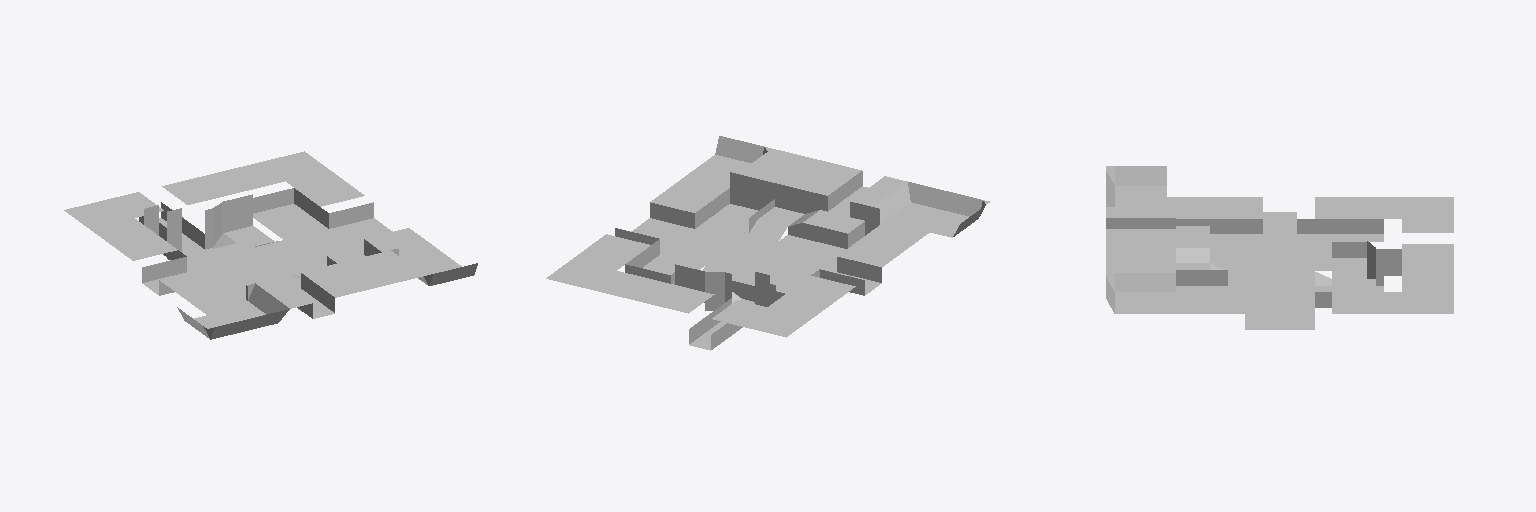
File: lvl_shipBigRoom2.obj
3 renders of one model, left to right at view 1: azimuth 30°, elevation 25°; view 2: azimuth 150°, elevation 25°; view 3: azimuth 270°, elevation 25°, orthographic.
Visible parts, largest first — view 1: Default; view 2: Default; view 3: Default.
Part boxes in pixels (x1,y1,x2,y2): Default: (64, 151, 477, 339); Default: (546, 136, 989, 350); Default: (1106, 166, 1453, 329).
Size of the model in its own units: 36 by 6 by 40.